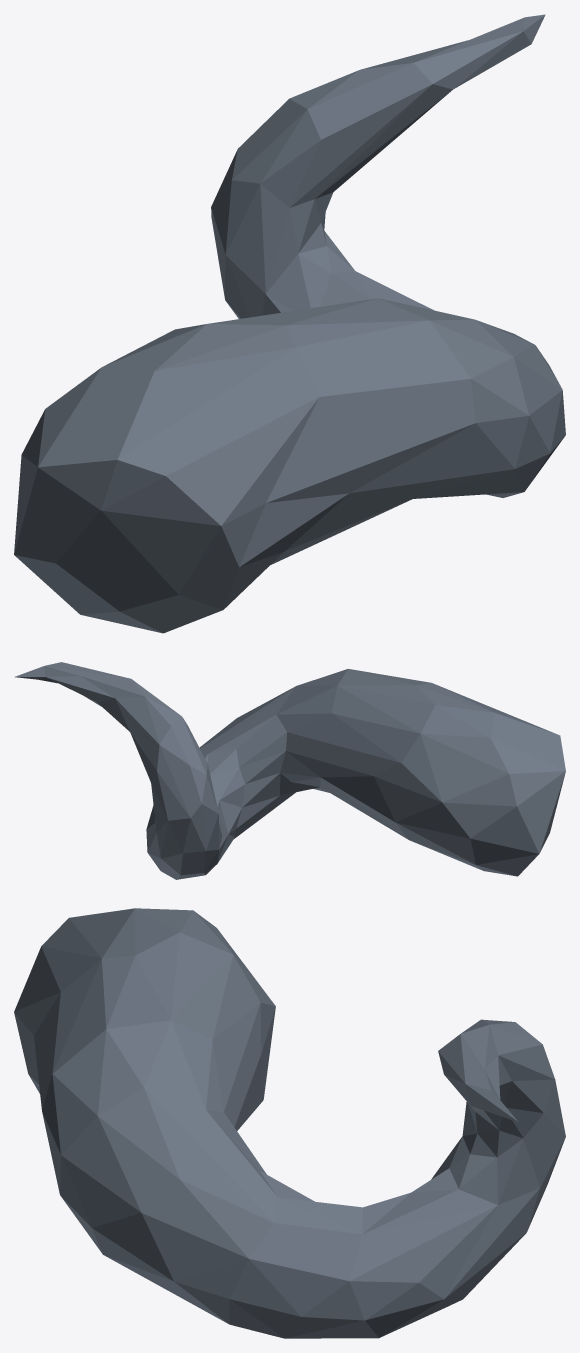
Rendered from white div horn.glb.
The picture shows the model from 3 angles, top to bottom: view 1: azimuth 30°, elevation 25°; view 2: azimuth 150°, elevation 25°; view 3: azimuth 270°, elevation 25°; orthographic projection. The views are drawn at different scales.
Visible parts, largest first — view 1: NurbsPath; view 2: NurbsPath; view 3: NurbsPath.
Part boxes in pixels (box(x1,y1,x2,y2)): NurbsPath: box(14, 14, 565, 633); NurbsPath: box(15, 662, 565, 879); NurbsPath: box(14, 908, 565, 1338).
Size of the model in its own units: 0.5674 by 0.2575 by 0.4036.
